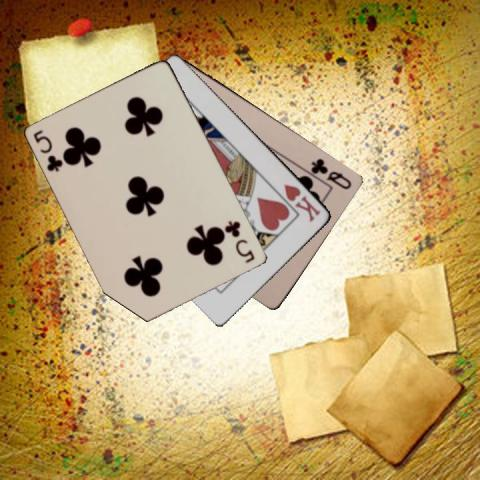5c: (222, 218, 256, 265), (30, 127, 64, 173)
Kh: (281, 181, 323, 223)
Qc: (308, 155, 353, 191)
